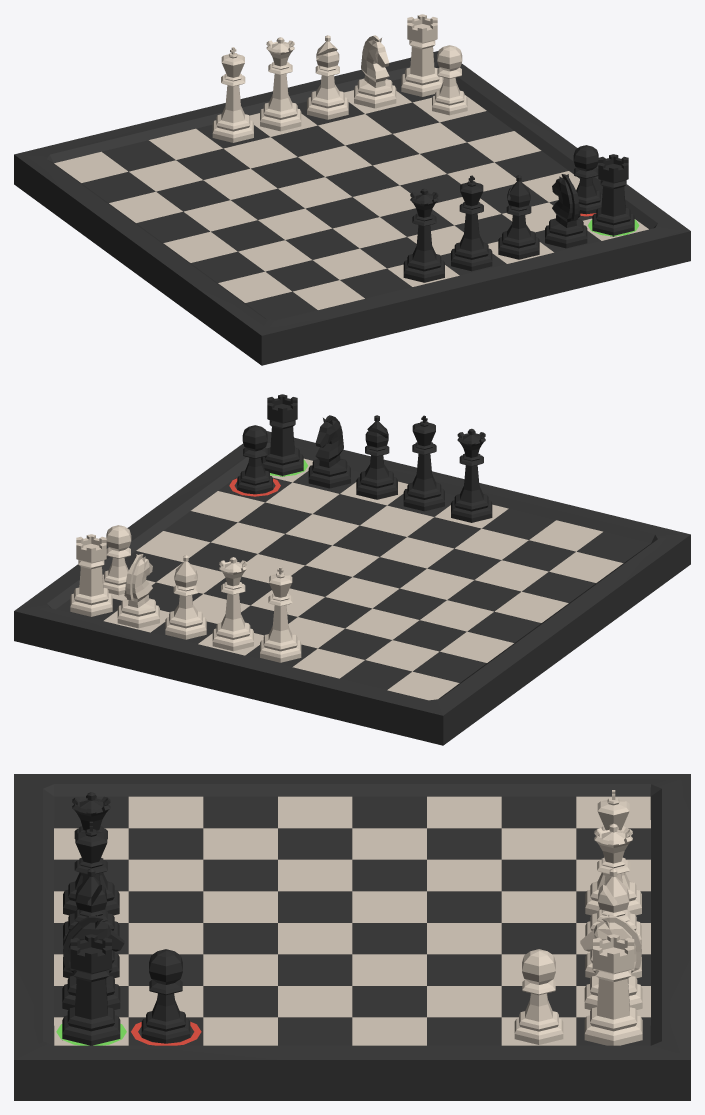
The model's file is Default Chess.fbx.
3 views of the same model, one above another, from view 1: azimuth 30°, elevation 25°; view 2: azimuth 150°, elevation 25°; view 3: azimuth 270°, elevation 25° (orthographic). The views are drawn at different scales.
Visible parts, largest first — view 1: Board, D_Rook, L_Rook, D_Queen, L_Queen, D_King, L_King, L_Knight, D_Knight, D_Bishop, L_Bishop, L_Pawn (+1 smaller); view 2: Board, L_Rook, D_Rook, D_Queen, L_Queen, L_King, D_King, D_Knight, L_Knight, L_Bishop, D_Bishop, D_Pawn (+1 smaller); view 3: Board, L_Rook, D_Rook, L_Pawn, D_Pawn, D_Knight, L_Knight, D_Queen, L_Queen, L_King, D_King, D_Bishop (+1 smaller).
Boxes of the visible parts, x1,y1,x2,y2 form: Board: (14, 51, 690, 365); D_Rook: (592, 154, 634, 236); L_Rook: (401, 14, 443, 96); D_Queen: (403, 188, 444, 282); L_Queen: (260, 37, 301, 131); D_King: (451, 175, 492, 271); L_King: (212, 47, 253, 142); L_Knight: (354, 35, 396, 108); D_Knight: (545, 174, 587, 248); D_Bishop: (498, 175, 539, 259); L_Bishop: (307, 35, 348, 119); L_Pawn: (432, 45, 467, 115); Board: (14, 431, 690, 745); L_Rook: (70, 534, 112, 616); D_Rook: (261, 394, 303, 476); D_Queen: (451, 428, 492, 522); L_Queen: (212, 557, 253, 651); L_King: (260, 567, 301, 662); D_King: (403, 415, 444, 511); D_Knight: (308, 415, 350, 488); L_Knight: (117, 554, 159, 628); L_Bishop: (165, 555, 206, 639); D_Bishop: (356, 415, 397, 499); D_Pawn: (237, 425, 272, 494); Board: (14, 774, 690, 1100); L_Rook: (584, 934, 642, 1045); D_Rook: (62, 934, 120, 1045); L_Pawn: (514, 949, 563, 1044); D_Pawn: (141, 949, 190, 1043); D_Knight: (62, 915, 124, 1009); L_Knight: (580, 915, 642, 1009); D_Queen: (63, 792, 119, 915); L_Queen: (585, 823, 641, 945); L_King: (585, 790, 641, 915); D_King: (63, 821, 119, 945); D_Bishop: (63, 868, 119, 978).
Bounding box in the file's own units: 908 × 224 × 908.
